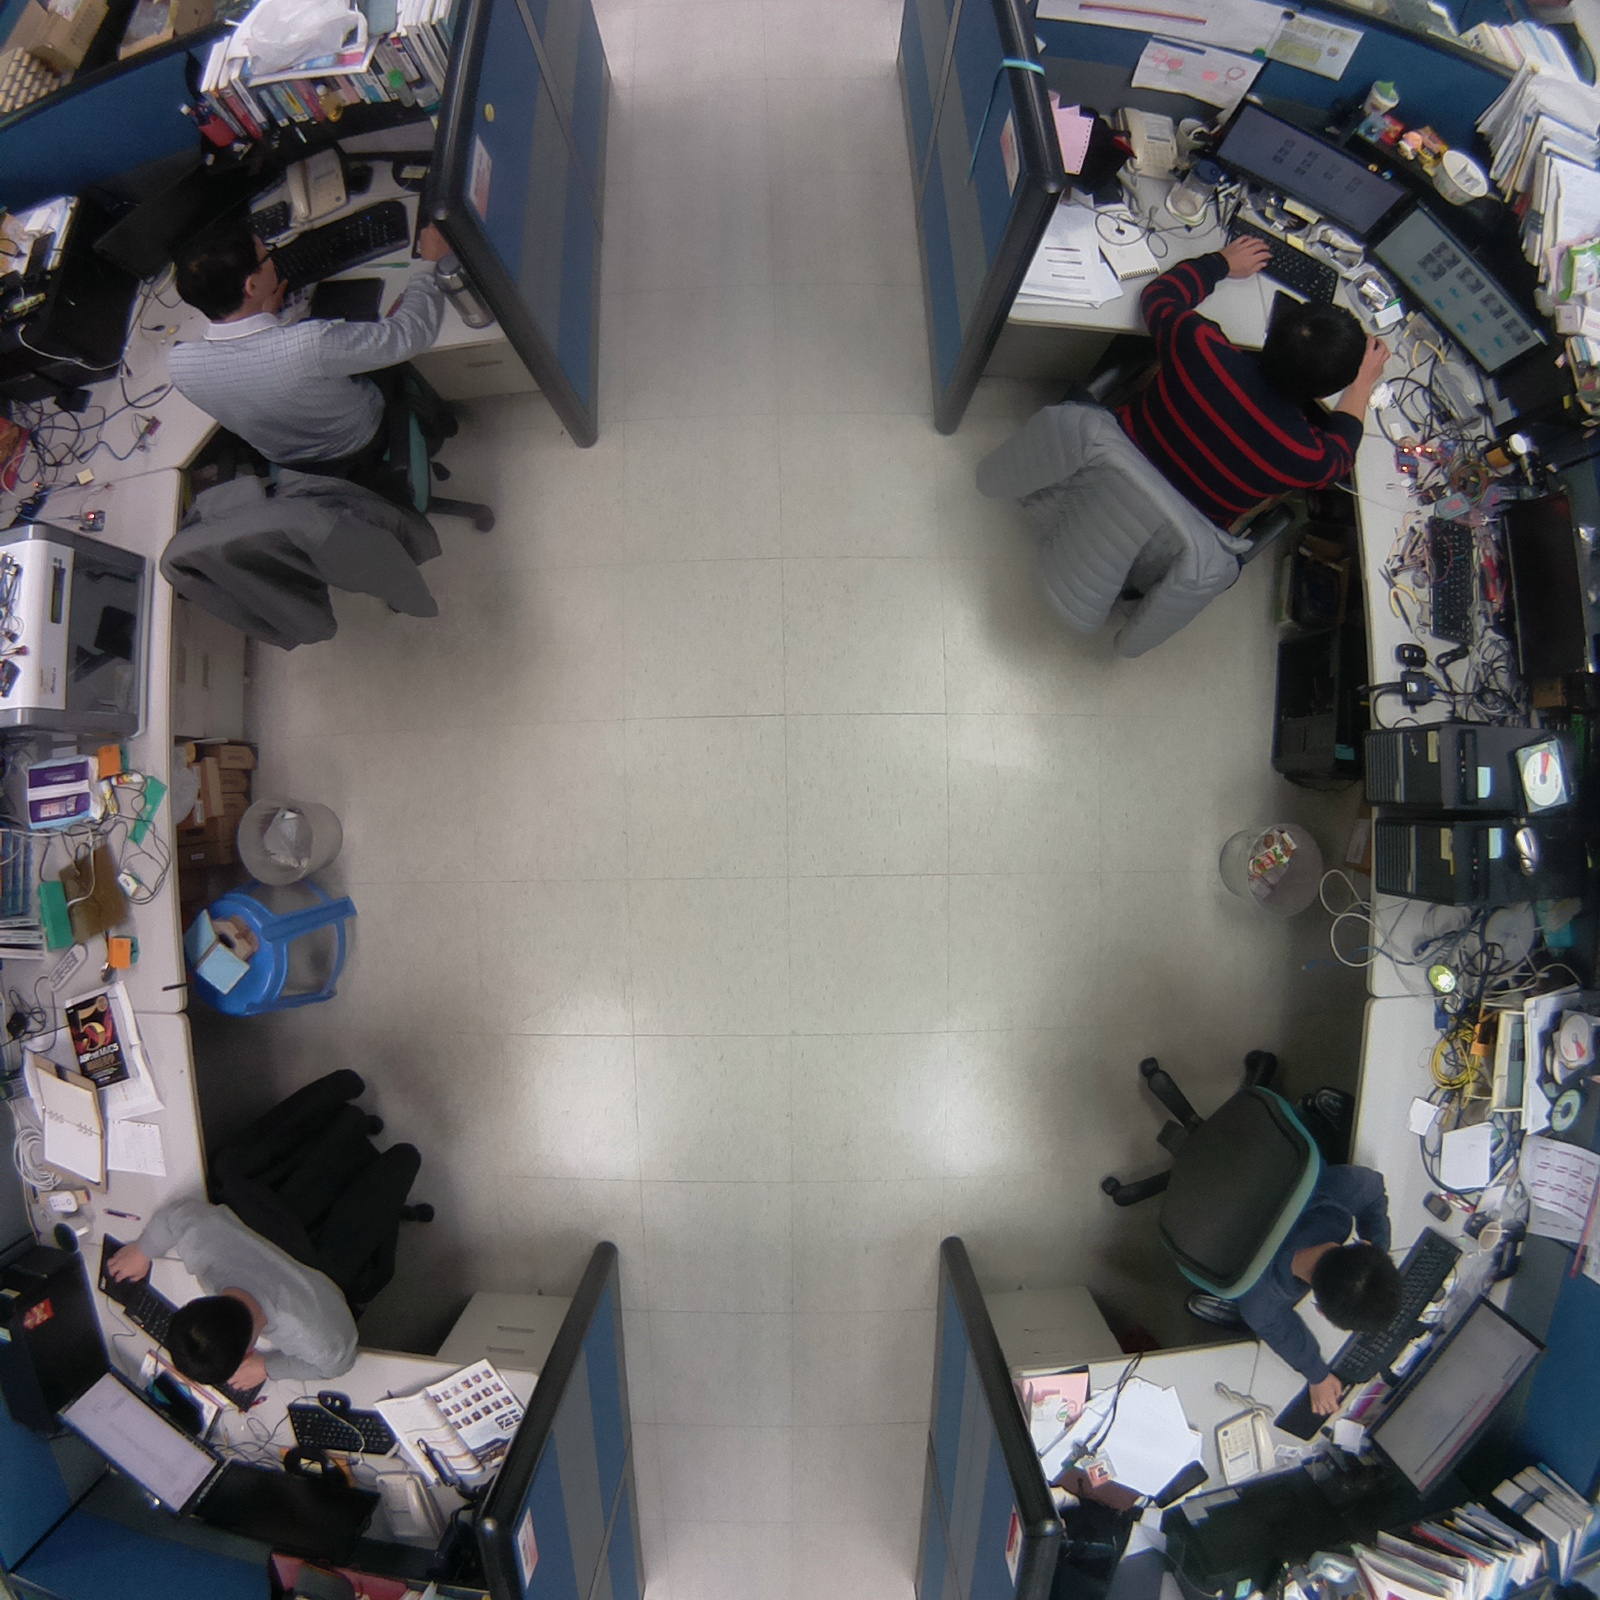head: (168, 204, 295, 334), (1257, 295, 1370, 406), (1304, 1231, 1408, 1340), (161, 1282, 257, 1393)
sitting: (958, 217, 1386, 691), (142, 178, 509, 670), (1078, 1024, 1414, 1427), (99, 1037, 458, 1411)
